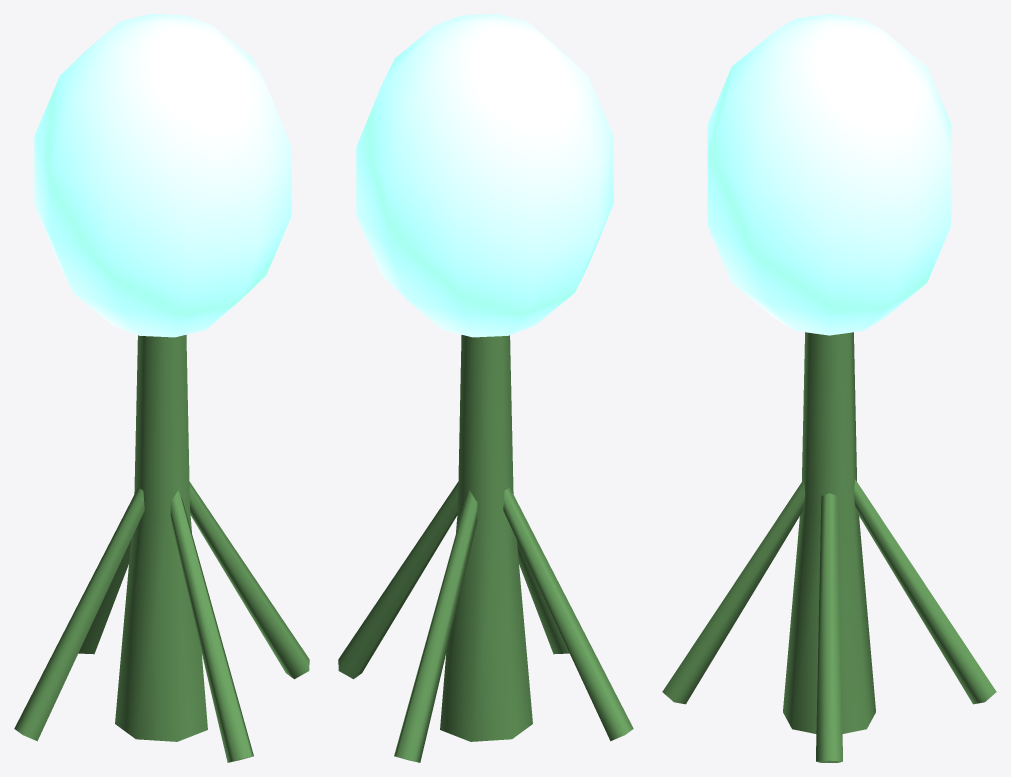
Rendered from spore_bulb.glb.
The picture shows the model from 3 angles, left to right: view 1: azimuth 30°, elevation 25°; view 2: azimuth 150°, elevation 25°; view 3: azimuth 270°, elevation 25°; orthographic projection.
Parts seen in each view (by area): view 1: spore_bulb_m; view 2: spore_bulb_m; view 3: spore_bulb_m.
Part boxes in pixels (x1,y1,x2,y2): spore_bulb_m: (14, 14, 309, 762); spore_bulb_m: (338, 14, 633, 762); spore_bulb_m: (662, 14, 996, 762).
Size of the model in its own units: 1.39 by 3.2 by 1.4.
